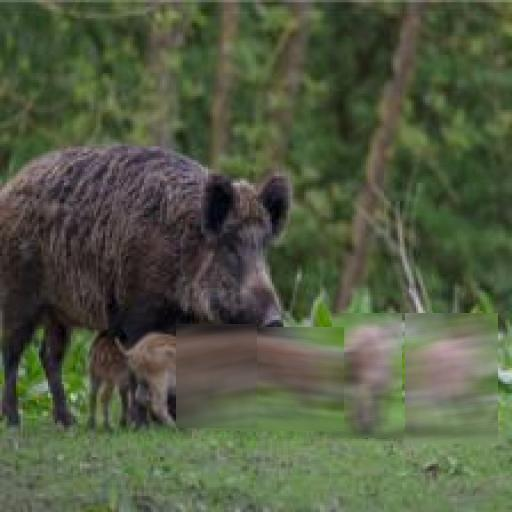Pig: (0, 137, 299, 432), (112, 324, 257, 428), (203, 327, 344, 431), (405, 313, 498, 444), (80, 315, 176, 439), (332, 313, 402, 438)
